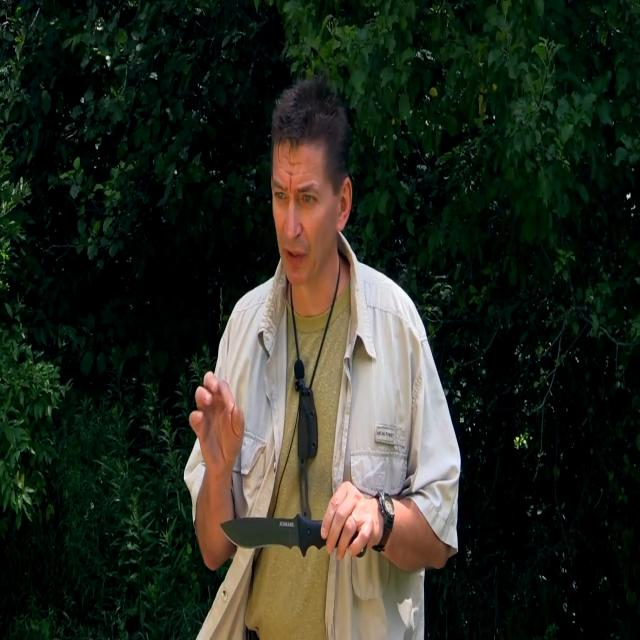knife: (217, 512, 327, 559)
